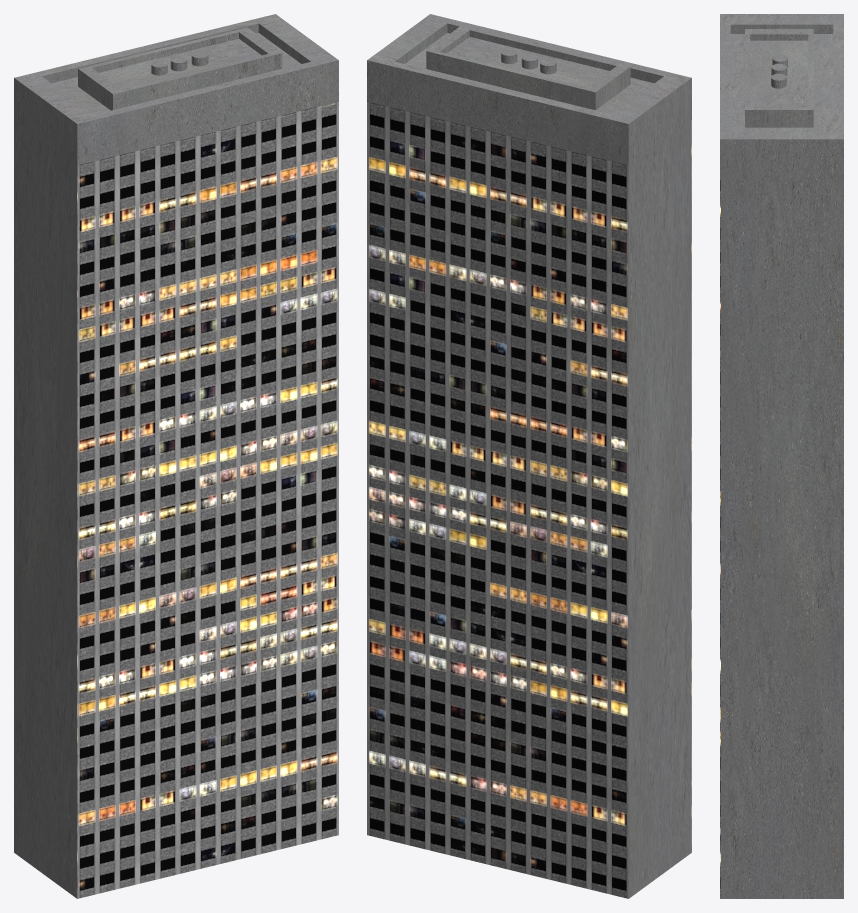
File: ny-office-building.glb
3 renders of one model, left to right at view 1: azimuth 30°, elevation 25°; view 2: azimuth 150°, elevation 25°; view 3: azimuth 270°, elevation 25°, orthographic.
Parts seen in each view (by area): view 1: ny-office-building.001; view 2: ny-office-building.001; view 3: ny-office-building.001.
Part boxes in pixels (bbox=[...]): ny-office-building.001: bbox=[14, 14, 338, 898]; ny-office-building.001: bbox=[367, 14, 691, 898]; ny-office-building.001: bbox=[720, 14, 843, 898].
Size of the model in its own units: 56.43 by 162 by 23.61.
1 material, 1 textured.
